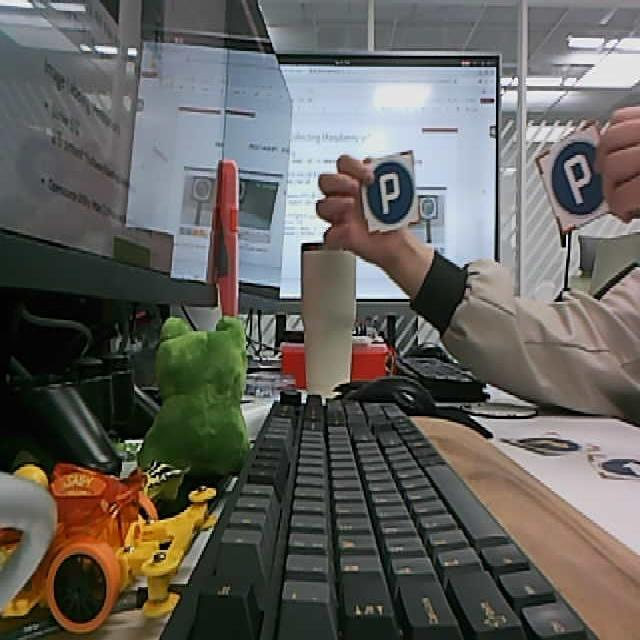parking: (549, 140, 606, 217), (365, 161, 417, 227)
